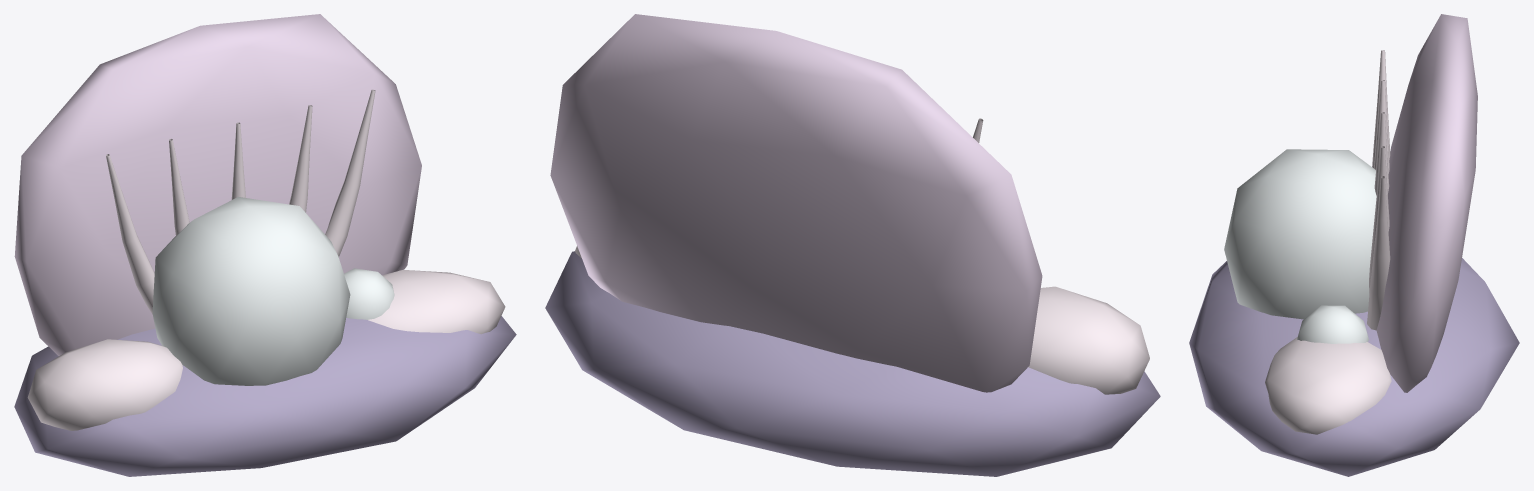
Rendered from moon_pearl_totem.glb.
The picture shows the model from 3 angles, left to right: view 1: azimuth 30°, elevation 25°; view 2: azimuth 150°, elevation 25°; view 3: azimuth 270°, elevation 25°; orthographic projection. The views are drawn at different scales.
Parts seen in each view (by area): view 1: back_shell, lower_shell_bowl, hero_pearl, left_lip, right_lip, shell_growth_ridge_4, shell_growth_ridge_0, small_pearl, shell_growth_ridge_3, shell_growth_ridge_1, shell_growth_ridge_2; view 2: back_shell, lower_shell_bowl, left_lip; view 3: lower_shell_bowl, back_shell, hero_pearl, right_lip, small_pearl, shell_growth_ridge_4, shell_growth_ridge_3, shell_growth_ridge_0, shell_growth_ridge_1, shell_growth_ridge_2.
Part boxes in pixels (x1,y1,x2,y2): back_shell: (14, 14, 421, 355); lower_shell_bowl: (14, 316, 516, 476); hero_pearl: (152, 197, 350, 385); left_lip: (27, 339, 182, 430); right_lip: (368, 269, 505, 334); shell_growth_ridge_4: (325, 89, 375, 257); shell_growth_ridge_0: (106, 154, 154, 313); small_pearl: (344, 268, 394, 319); shell_growth_ridge_3: (289, 105, 312, 212); shell_growth_ridge_1: (169, 139, 189, 235); shell_growth_ridge_2: (231, 122, 245, 199); back_shell: (550, 14, 1042, 392); lower_shell_bowl: (545, 251, 1160, 476); left_lip: (1028, 286, 1149, 394); lower_shell_bowl: (1189, 258, 1519, 476); back_shell: (1376, 14, 1477, 392); hero_pearl: (1224, 149, 1376, 319); right_lip: (1265, 337, 1391, 434); small_pearl: (1297, 305, 1368, 343); shell_growth_ridge_4: (1367, 176, 1390, 330); shell_growth_ridge_3: (1369, 146, 1389, 292); shell_growth_ridge_0: (1372, 50, 1390, 168); shell_growth_ridge_1: (1374, 80, 1389, 173); shell_growth_ridge_2: (1374, 112, 1389, 195).
Bounding box in the file's own units: 5.2 × 3.85 × 3.26.
